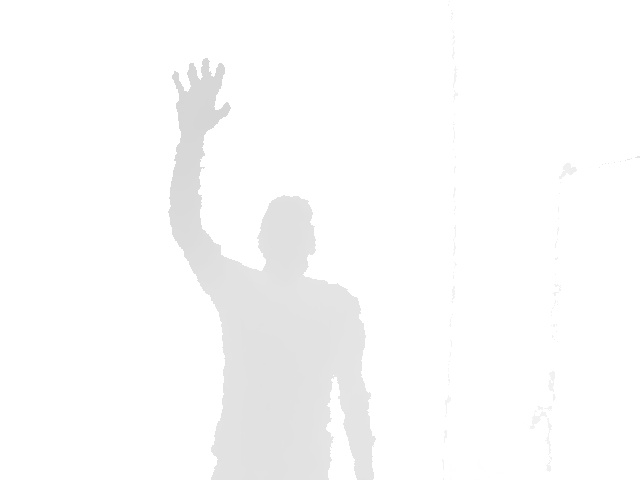hand: (171, 56, 233, 136)
head: (257, 195, 317, 276)
person: (168, 56, 377, 479)
